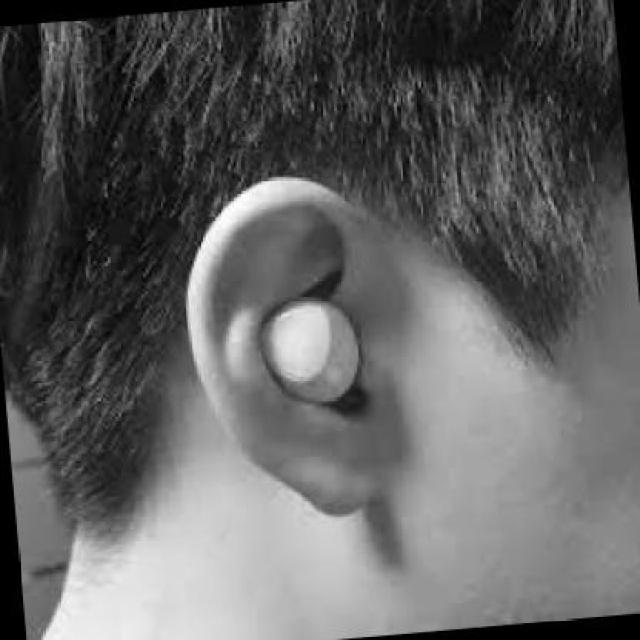earphone: (227, 277, 376, 412)
